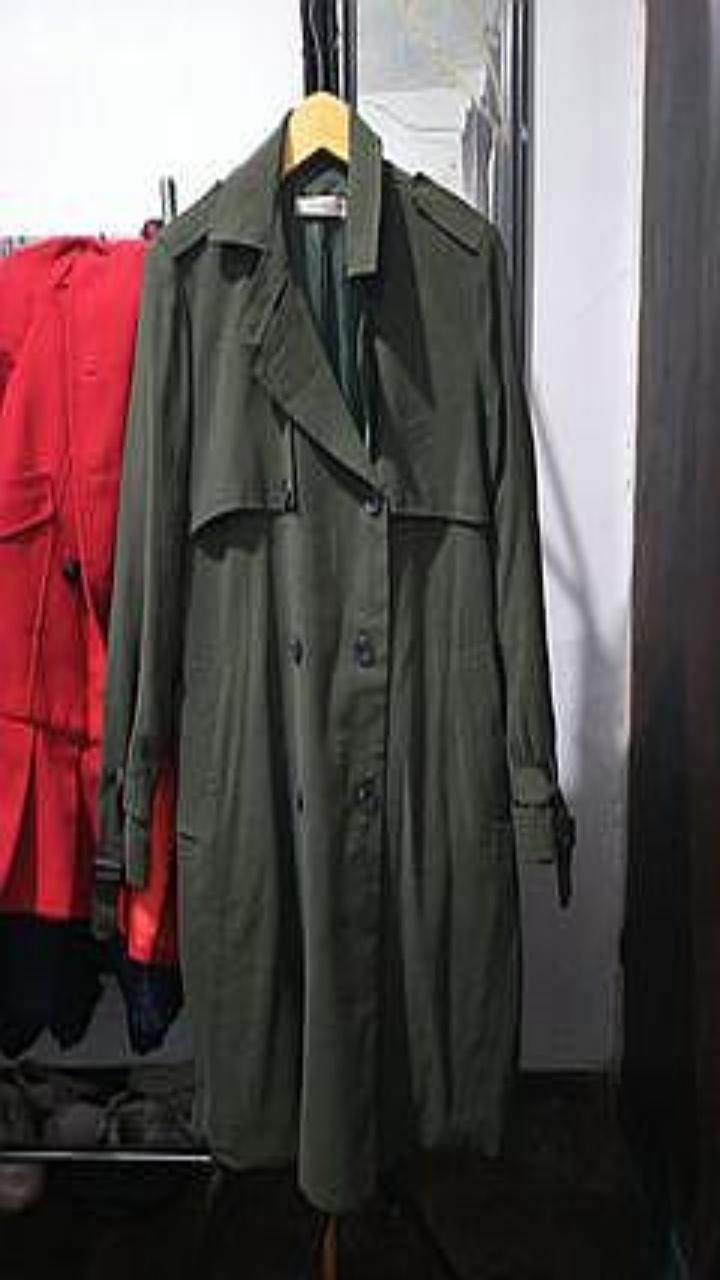Coat: (103, 113, 567, 1210), (0, 236, 146, 922)
